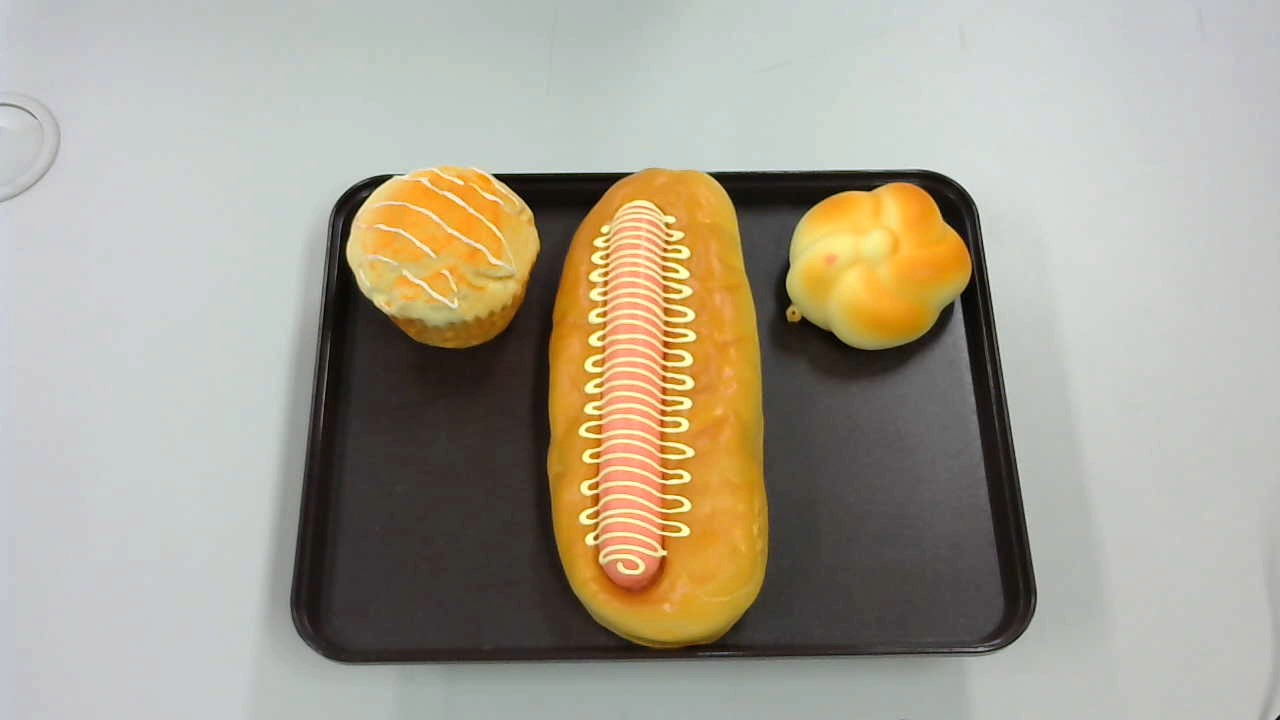croissant: (785, 181, 971, 347)
cupcake: (344, 165, 540, 349)
hot dog: (545, 165, 770, 651)
